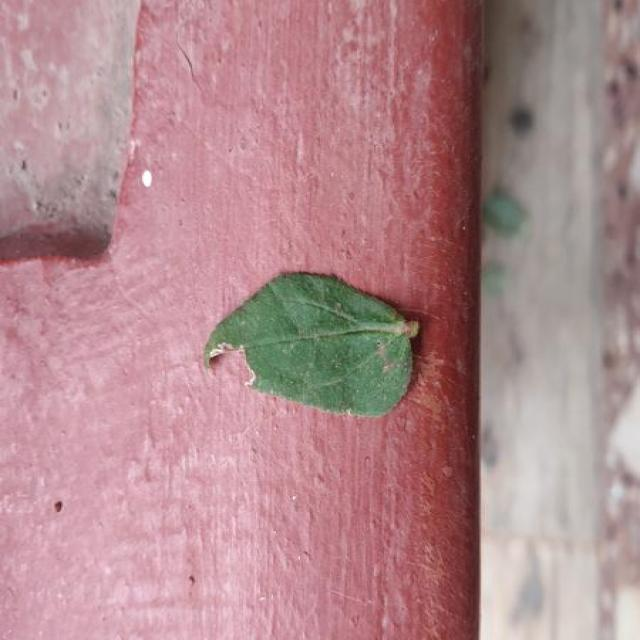Astma_weed: (205, 272, 418, 416)
disease in leaf: (205, 272, 418, 416)
